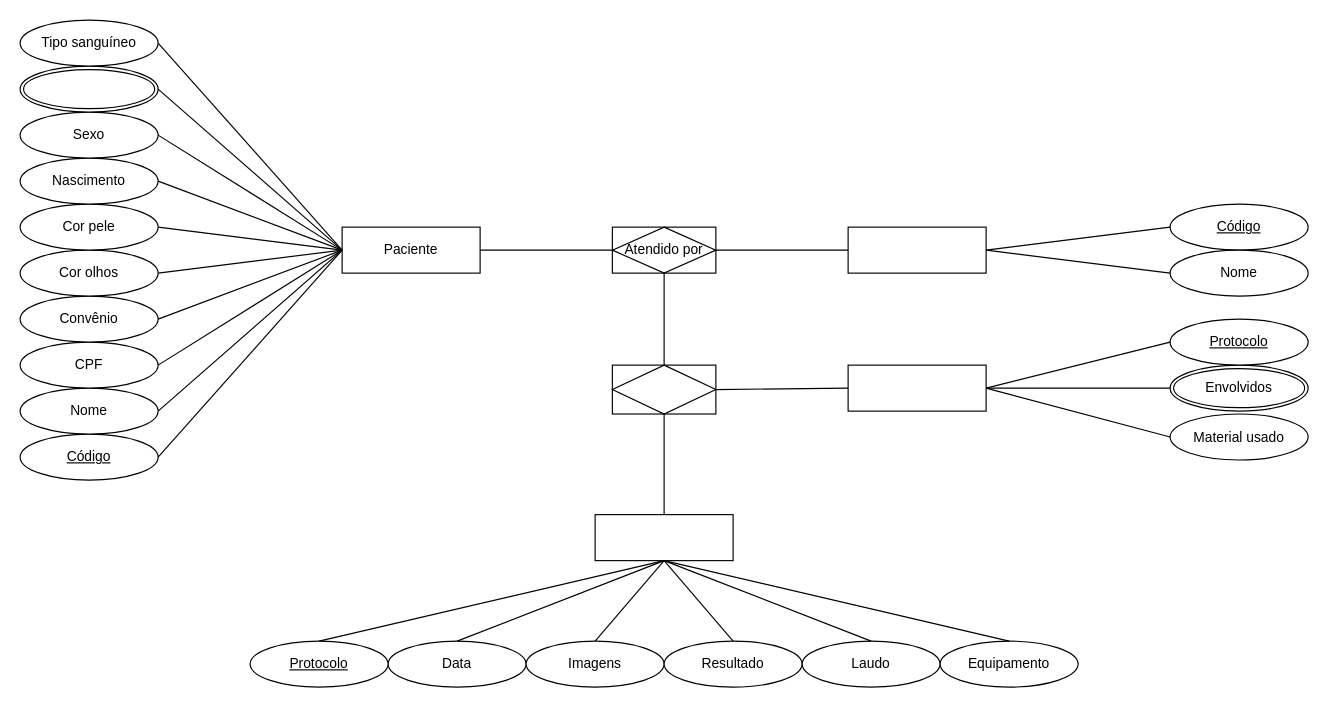
This 1328x707 diagram has some shape labels left out. The box of each missing label's shape, as (x1, y1, x2, y2) in pixels:
Exames: (594, 513, 733, 561)
Gera: (611, 364, 716, 414)
Médico: (847, 226, 986, 273)
Procedimentos: (847, 364, 986, 411)
Telefones: (19, 65, 158, 112)
